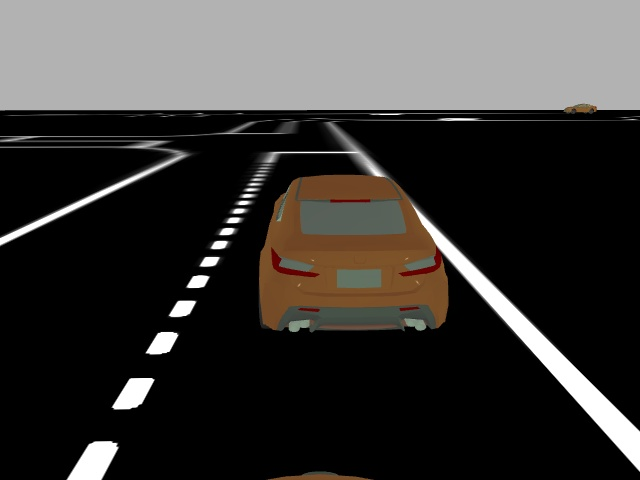obstacle_car: (252, 172, 453, 337)
